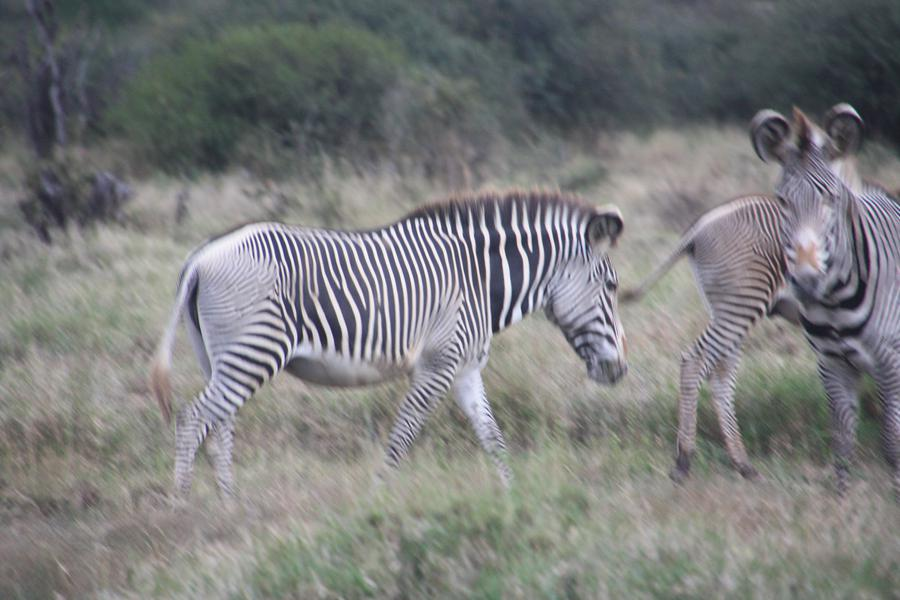zebra_grevys: (184, 208, 476, 367)
